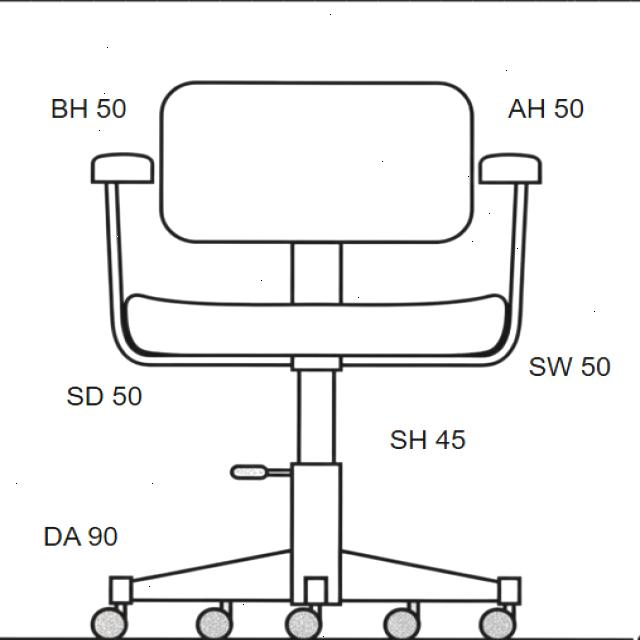Armrest: (82, 150, 160, 346), (475, 148, 549, 335)
Backrest: (155, 73, 479, 250)
Caster_Wheel: (85, 602, 139, 639), (189, 602, 241, 639), (471, 602, 523, 639), (279, 602, 327, 639), (377, 604, 425, 639)
Control_Mechanism: (222, 458, 299, 486)
Leg_Structure: (104, 457, 528, 610)
Seat: (119, 290, 514, 363)
